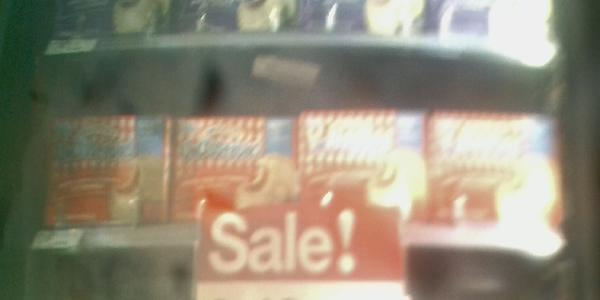icecream: (430, 104, 561, 237), (169, 113, 303, 243), (300, 107, 432, 234), (42, 105, 170, 232)
